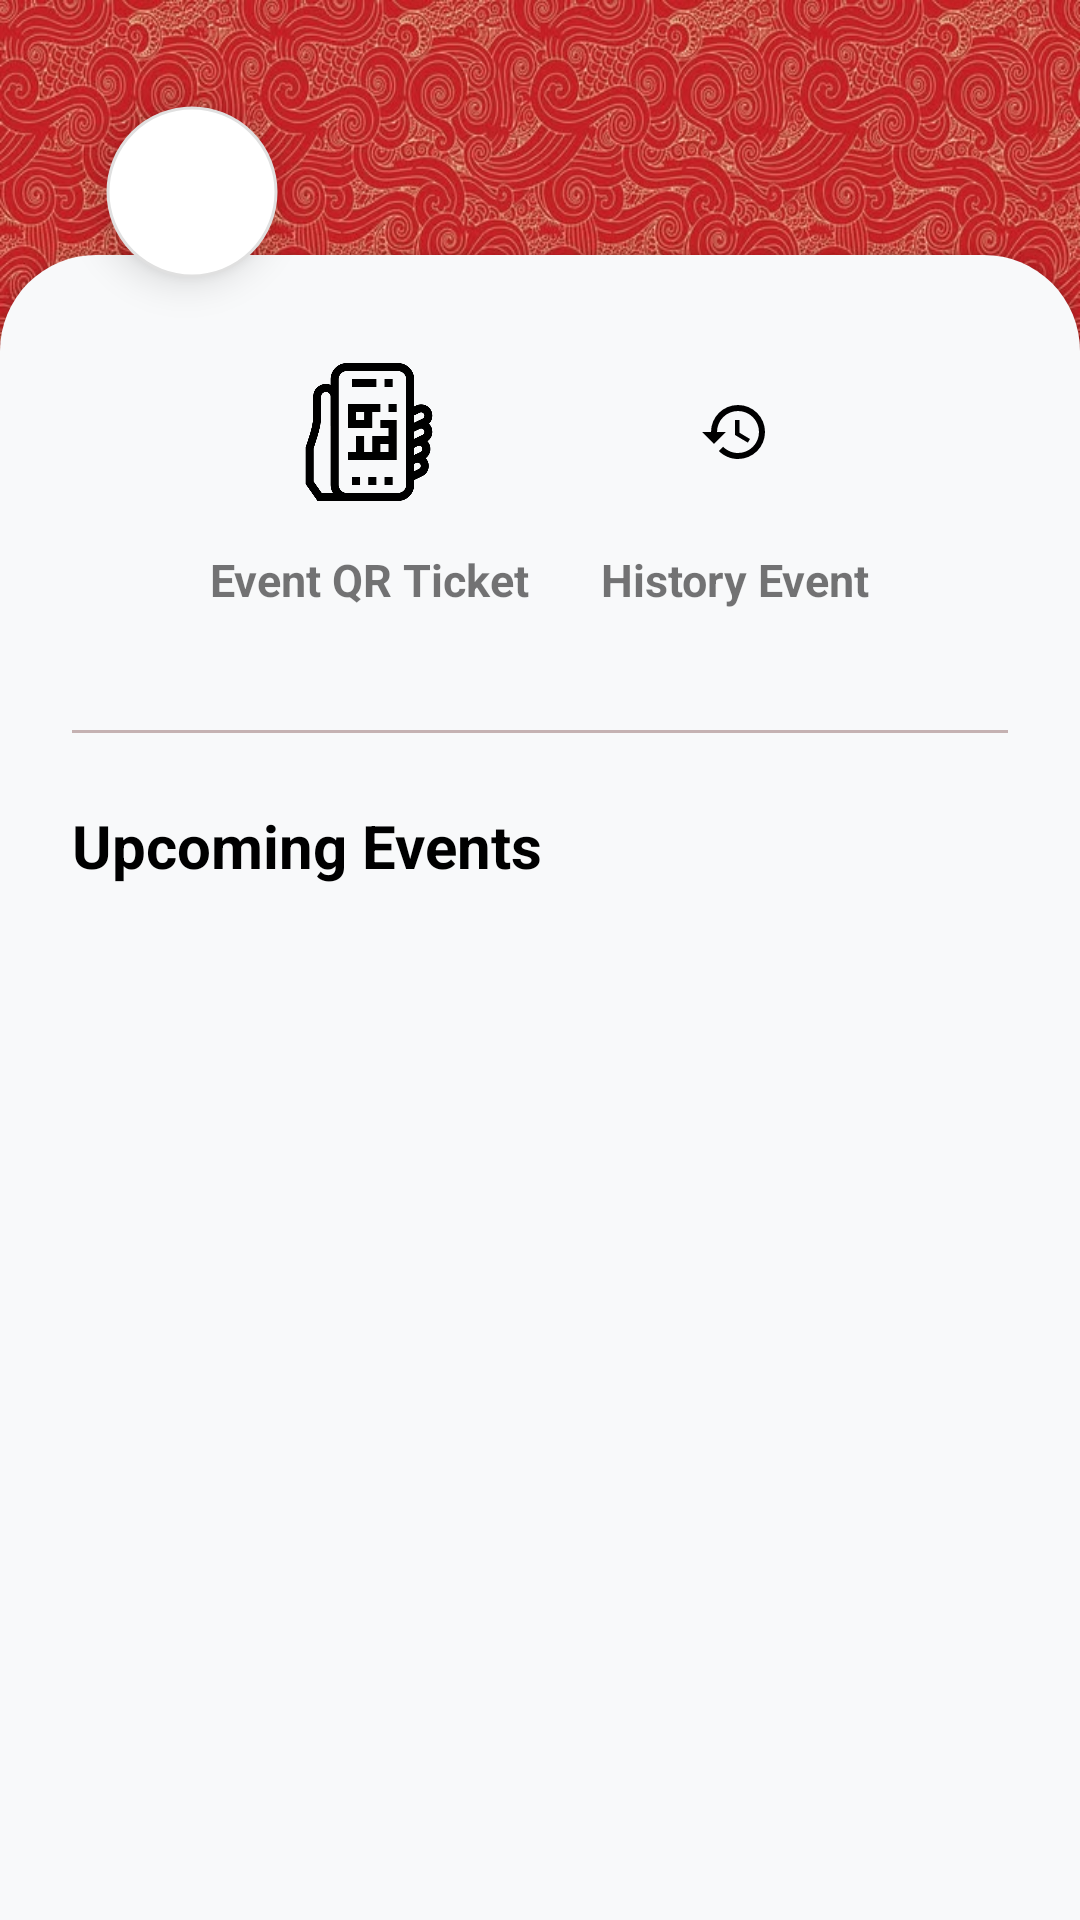

Icon bounding boxes for this 1080*1920 phone screenshot, format (x1, y1, x2, y2):
history nav: (702, 405, 765, 459)
qr nav: (305, 363, 433, 501)
